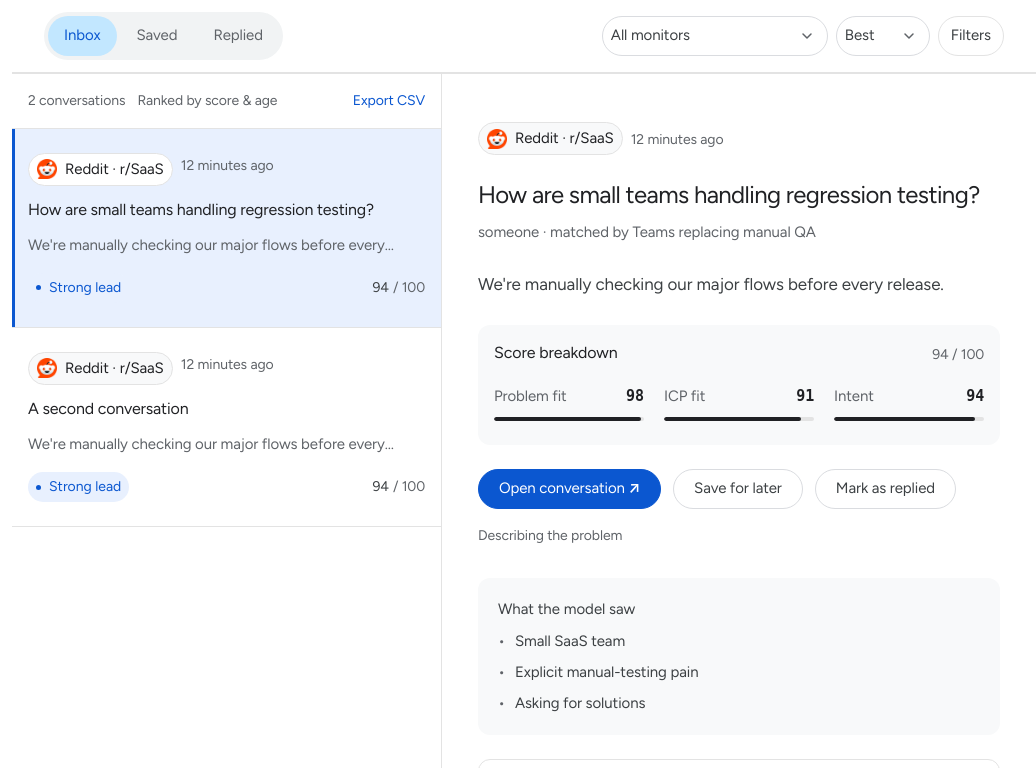
Test case: the inbox › marking a match replied › sends the mark, keeps the row, and says so on the card and the button
Click the button "Mark as replied" at (885, 489), box [815,469,956,509]
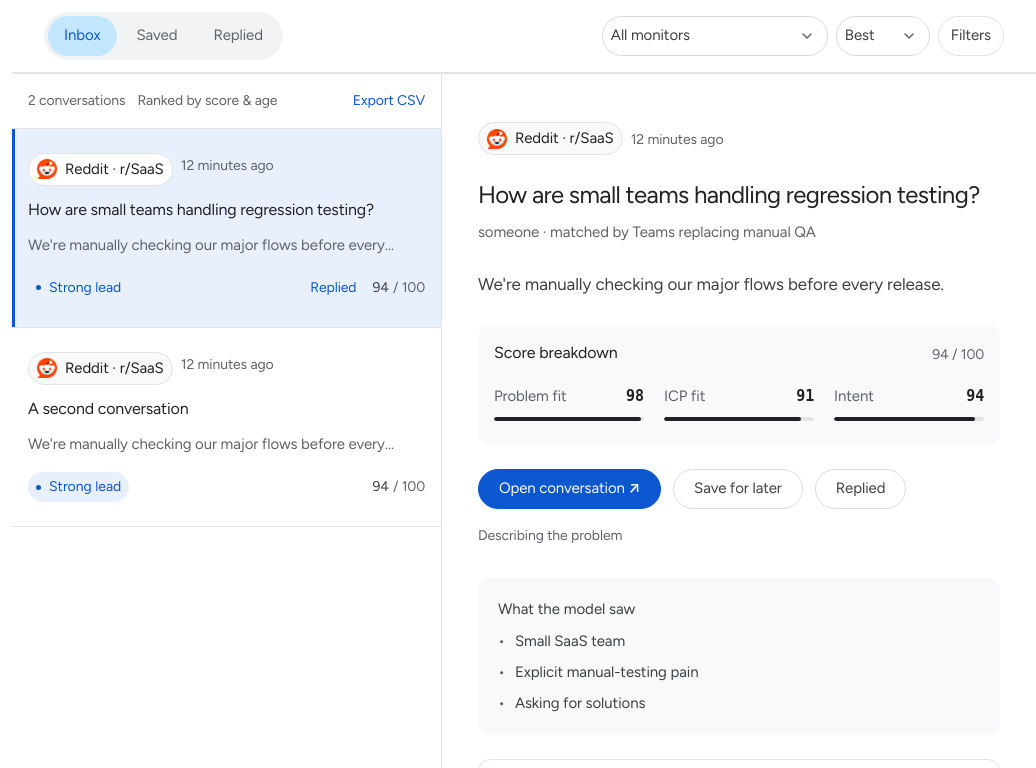
Now the text "Replied" is shown, box [310,277,356,299]
